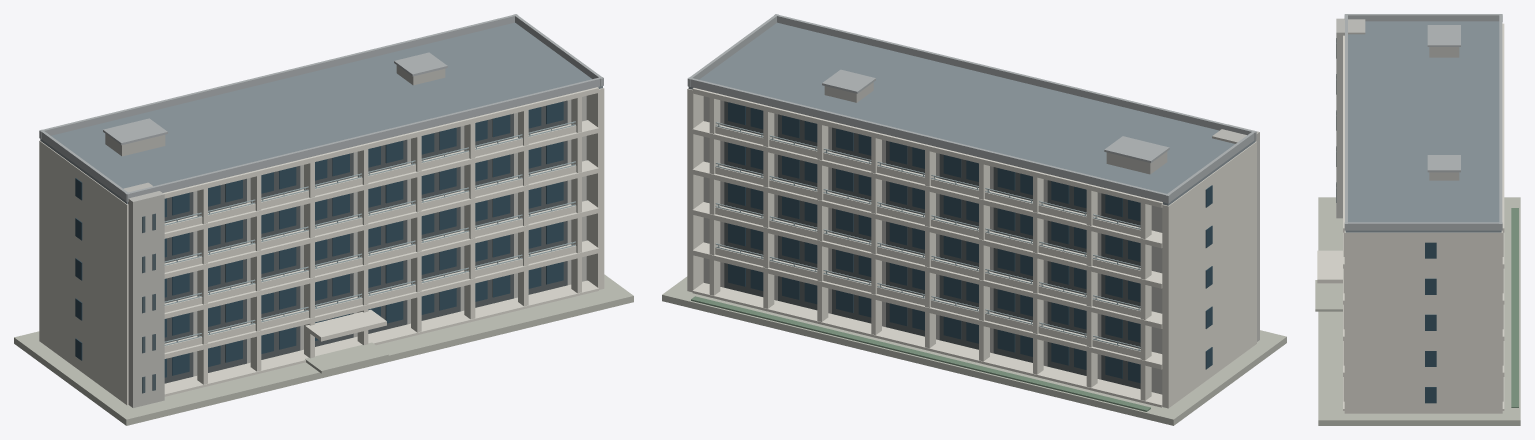
The picture shows the model from 3 angles, left to right: view 1: azimuth 30°, elevation 25°; view 2: azimuth 150°, elevation 25°; view 3: azimuth 270°, elevation 25°; orthographic projection. The views are drawn at different scales.
Size of the model in its own units: 40.4 by 17.1 by 15.73.
